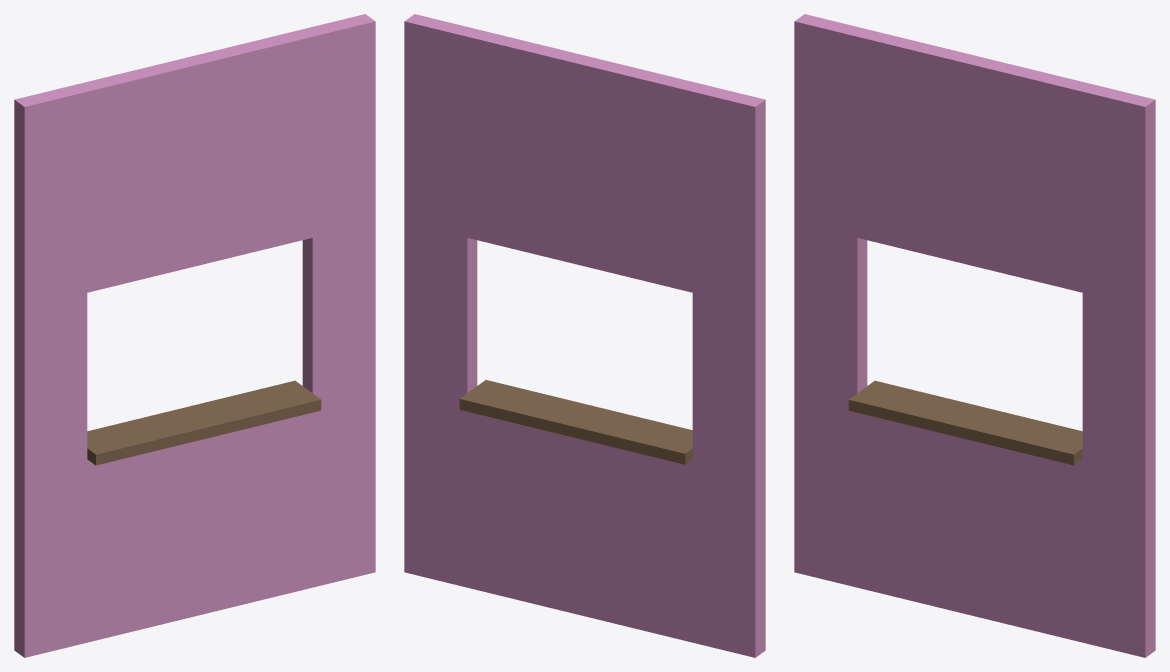
Rendered from Mesh_Wall_G3.fbx.
3 views of the same model, side by side, from view 1: azimuth 30°, elevation 25°; view 2: azimuth 150°, elevation 25°; view 3: azimuth 330°, elevation 25° (orthographic).
Parts seen in each view (by area): view 1: Mesh_Wall_G3; view 2: Mesh_Wall_G3; view 3: Mesh_Wall_G3.
Part boxes in pixels (x1=…): Mesh_Wall_G3: x1=14, y1=14, x2=375, y2=657; Mesh_Wall_G3: x1=404, y1=14, x2=765, y2=657; Mesh_Wall_G3: x1=794, y1=14, x2=1155, y2=657.
Bounding box in the file's own units: 2 × 3 × 0.2574.
